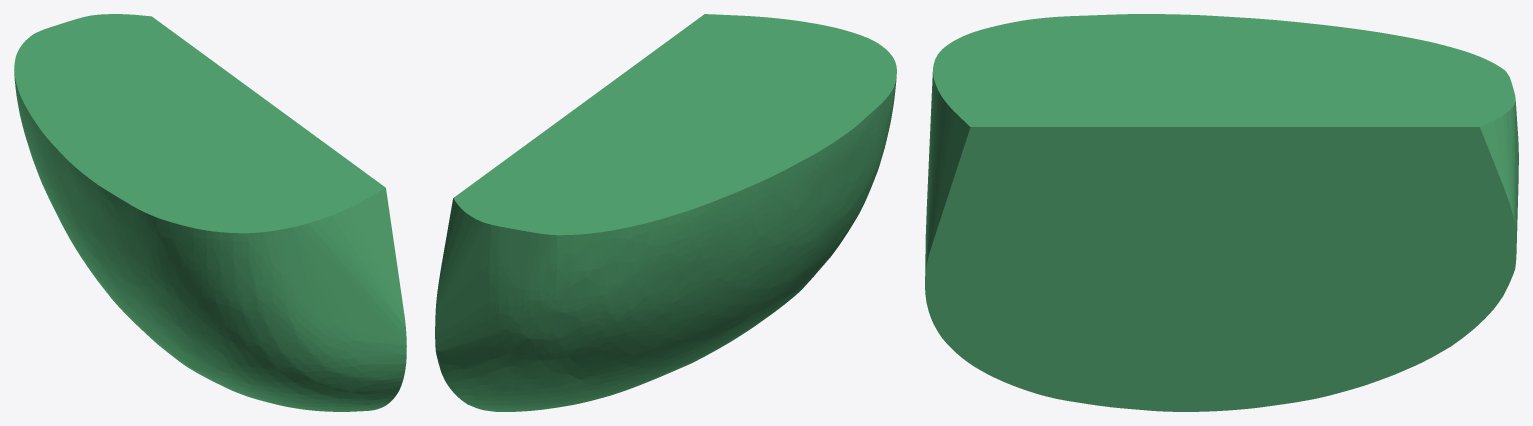
Rendered from convex_piece_3.obj.
3 views of the same model, side by side, from view 1: azimuth 30°, elevation 25°; view 2: azimuth 150°, elevation 25°; view 3: azimuth 270°, elevation 25° (orthographic). The views are drawn at different scales.
Bounding box in the file's own units: 0.0312 × 0.0367 × 0.0693.
